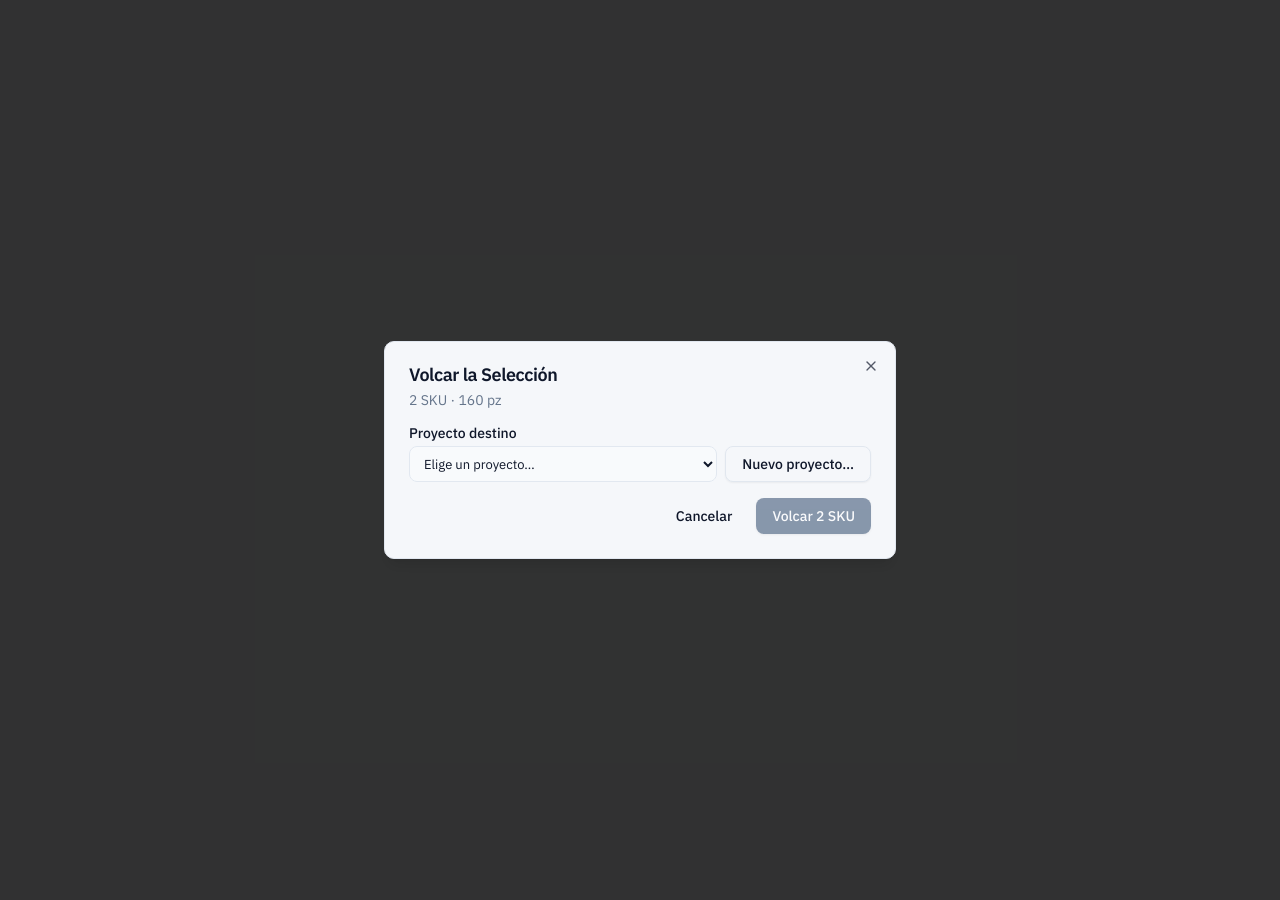
[INV-B8.2] VolcarDialog › con conflictos NO vacía la Selección, y dice qué esperaba y qué hay
Select "PRJ-050 · Rollout Norte" in the dropdown labelled "Proyecto destino" at (563, 464), box [409, 446, 717, 482]
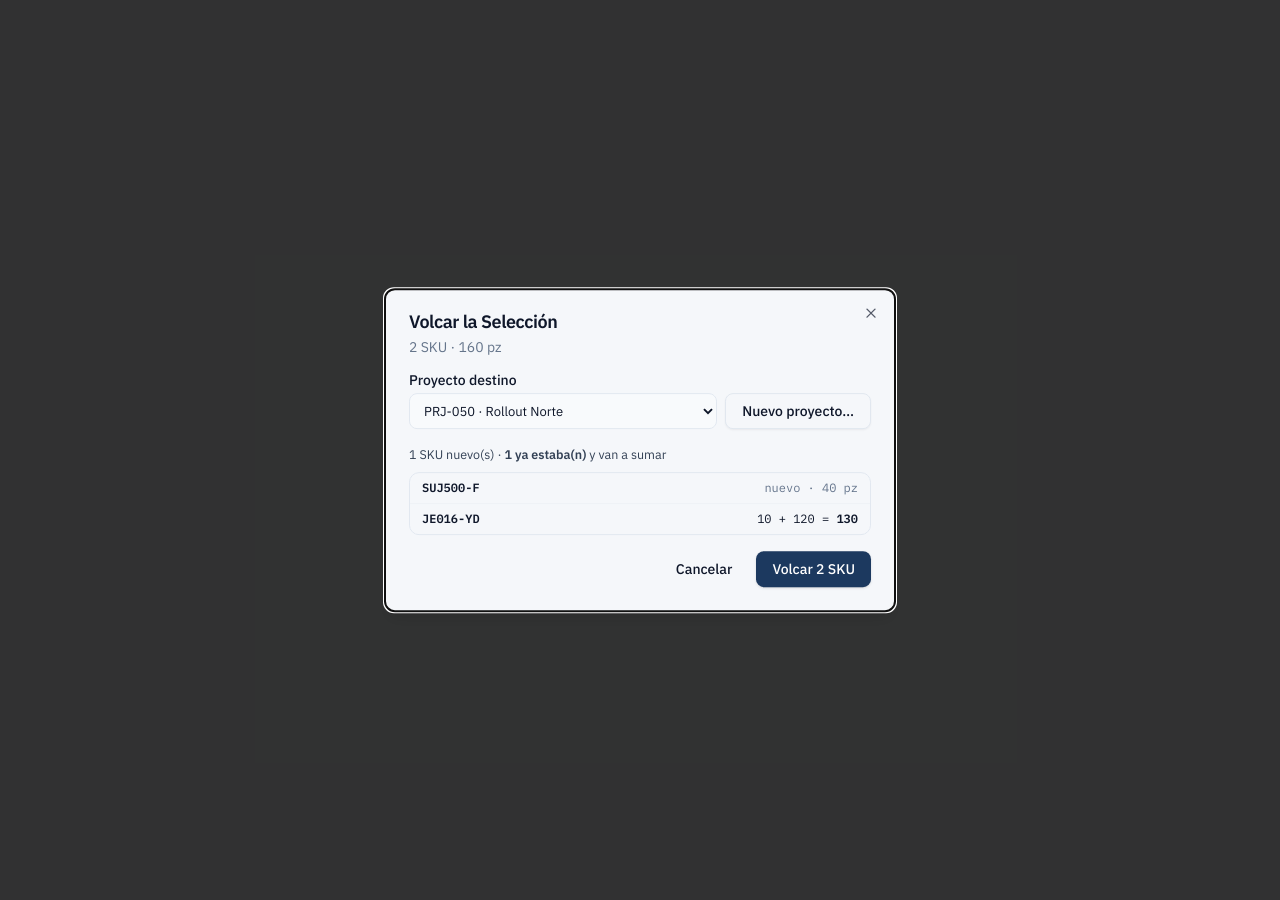
Expected: the button "Volcar 2 SKU" is enabled
Click the button "Volcar 2 SKU" at (814, 569), box [756, 551, 871, 587]
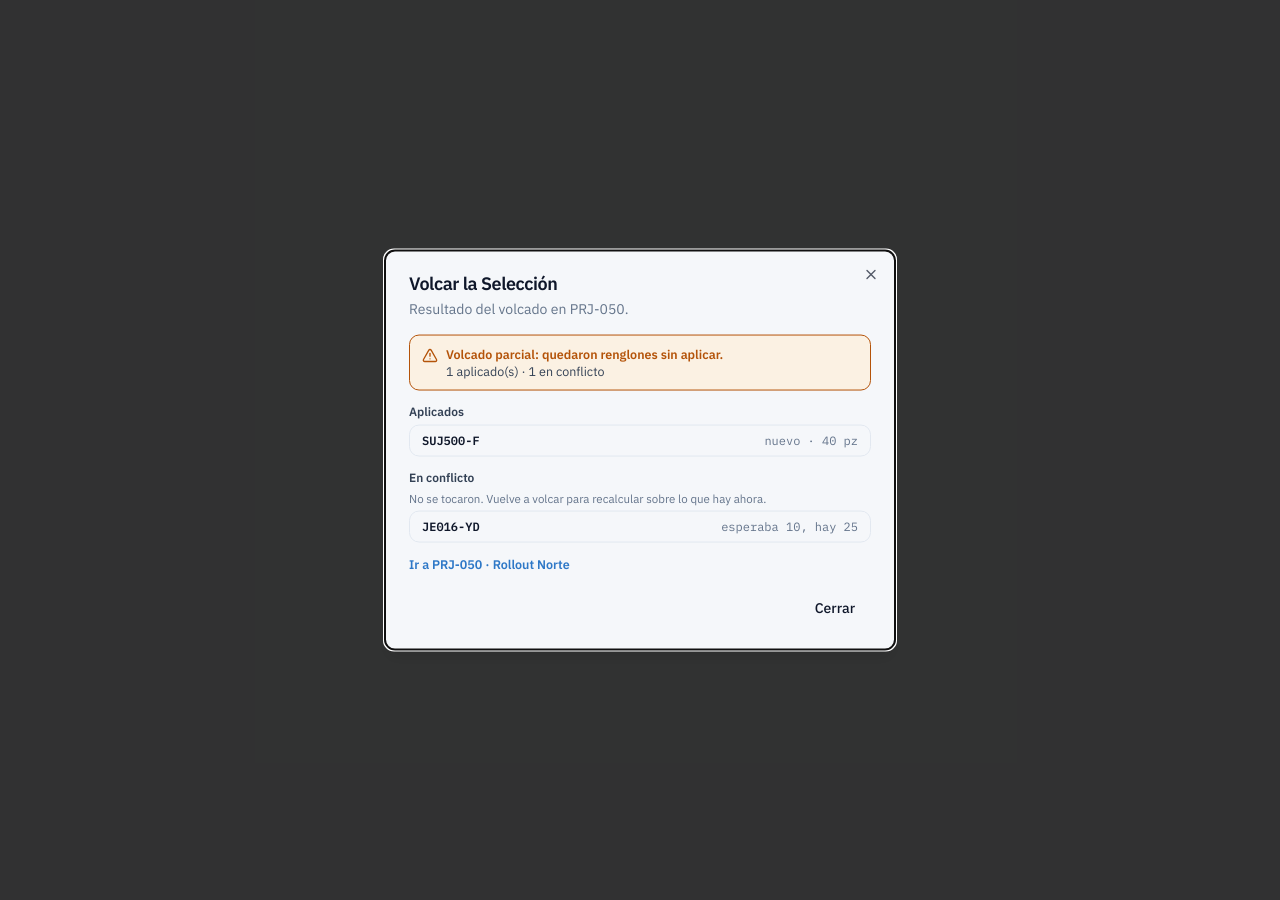
Expected: the text "Volcado parcial: quedaron renglones sin aplicar." is shown, [446, 346, 723, 363]
Expected: the text "esperaba 10, hay 25" is shown, [721, 518, 858, 536]
